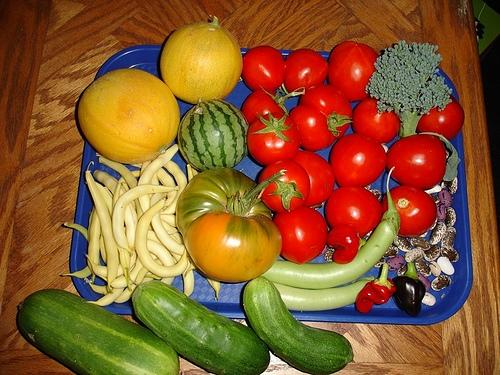broccoli: (366, 42, 451, 138)
cucumber: (17, 289, 180, 375), (132, 280, 270, 375), (243, 275, 354, 375)
green bean: (112, 184, 180, 257), (85, 161, 119, 293), (136, 197, 188, 278), (190, 166, 220, 302), (93, 169, 138, 252), (148, 230, 194, 297), (99, 156, 144, 222), (137, 144, 179, 214), (150, 193, 190, 256), (110, 252, 158, 288), (160, 160, 188, 214), (112, 170, 140, 220), (86, 250, 136, 277), (146, 239, 175, 285), (88, 205, 102, 284), (140, 256, 178, 284), (158, 168, 178, 207), (82, 288, 124, 306), (84, 277, 114, 295), (114, 283, 139, 303), (62, 266, 92, 278), (161, 218, 180, 235), (160, 215, 178, 228), (187, 164, 194, 182)
tomato: (385, 134, 446, 190), (273, 206, 328, 264), (327, 41, 378, 103), (329, 133, 386, 188), (324, 185, 382, 238), (289, 105, 354, 152), (246, 111, 301, 166), (381, 185, 436, 238), (258, 159, 310, 213), (242, 86, 306, 127), (289, 150, 335, 206), (415, 94, 465, 142), (352, 98, 400, 144), (284, 48, 329, 96), (242, 46, 285, 92), (326, 224, 365, 264)
